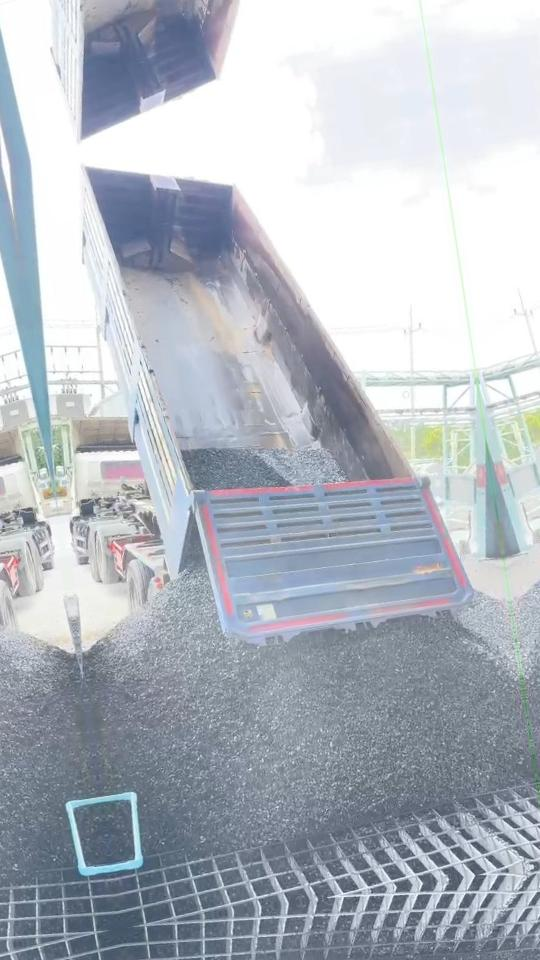gravel: (83, 558, 533, 855), (183, 446, 347, 489), (458, 591, 519, 677), (103, 800, 134, 865)
